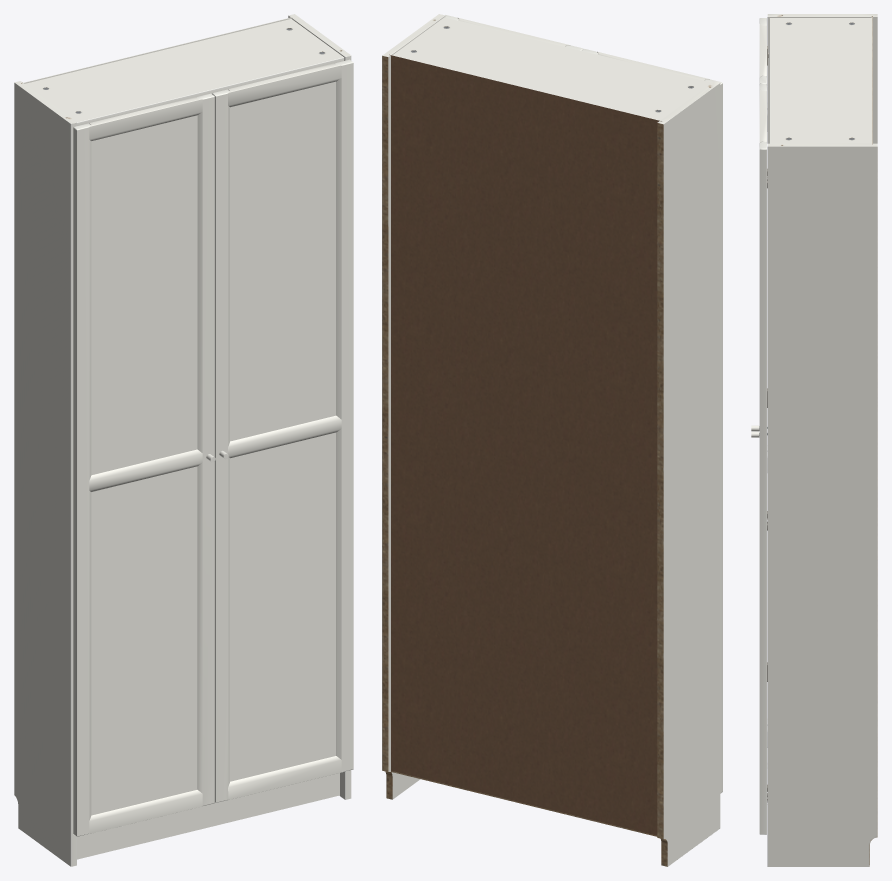
The model's file is 39 - BILLY OXBERG Bookcase with doors - white 80x30x202 cm.glb.
3 renders of one model, left to right at view 1: azimuth 30°, elevation 25°; view 2: azimuth 150°, elevation 25°; view 3: azimuth 270°, elevation 25°, orthographic. The views are drawn at different scales.
Parts seen in each view (by area): view 1: Mesh_1; view 2: Mesh_1; view 3: Mesh_1.
Boxes of the visible parts, x1=… form: Mesh_1: x1=14, y1=14, x2=353, y2=866; Mesh_1: x1=382, y1=14, x2=722, y2=866; Mesh_1: x1=751, y1=14, x2=877, y2=866.
Size of the model in its own units: 0.7981 by 2.02 by 0.3212.
2 materials, 2 textured.
